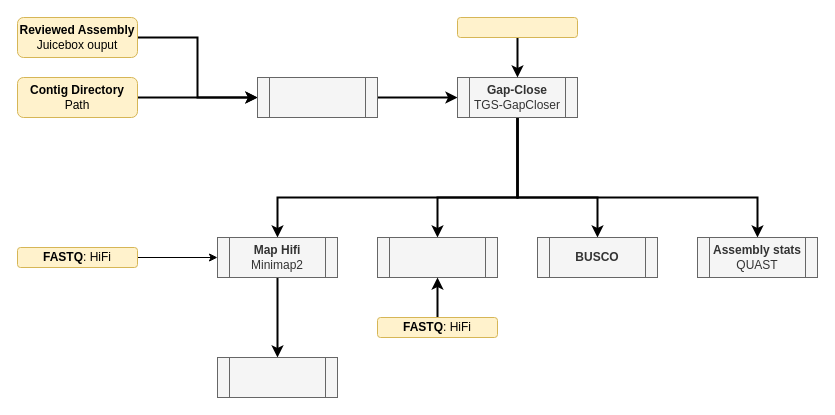
Image size: 835x415. Some labels were removed from this diagram. Here are the shapes that lost their labels. From the top down, the box of each, then its label:
(456, 16, 578, 38): FASTA : HiFi
(256, 76, 378, 118): ASM to FASTA PhaseGenomics
(376, 236, 498, 278): K-mer spectrum Merqury
(216, 356, 338, 398): Depth statistics Mosdepth
